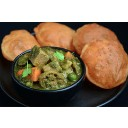poori: (82, 40, 128, 89), (35, 21, 76, 50), (75, 25, 117, 53), (1, 29, 39, 58)
